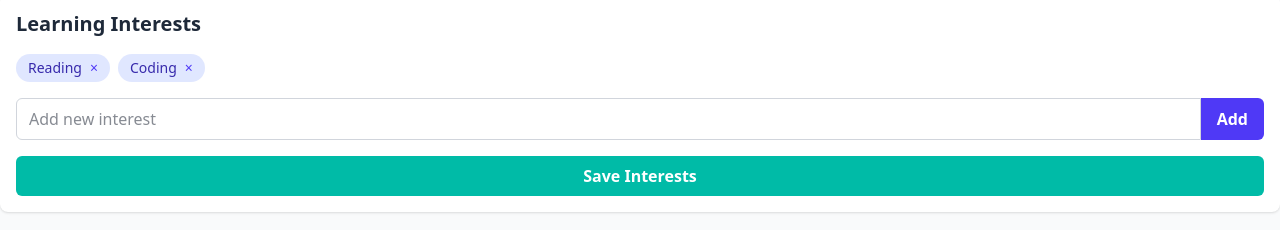
Test case: LearningInterestsForm › allows removing an interest
The image size is (1280, 230).
Click the button "×" next to "Reading".
click(94, 68)  # box x1=90 y1=58 x2=98 y2=78
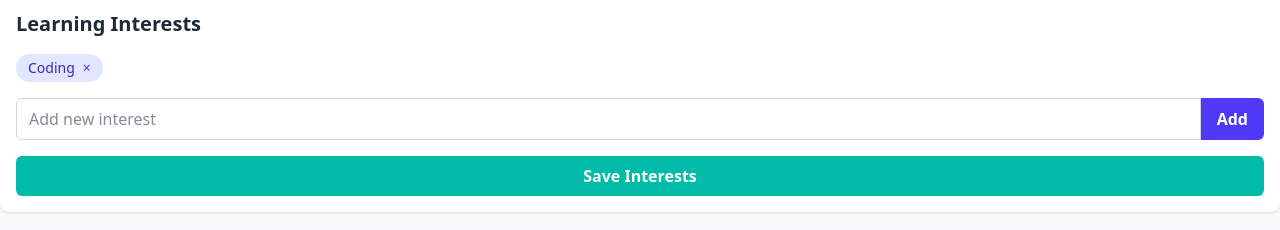
Check: the text "Coding" is shown, box x1=28 y1=58 x2=75 y2=77
Check: the text "Reading" is gone
